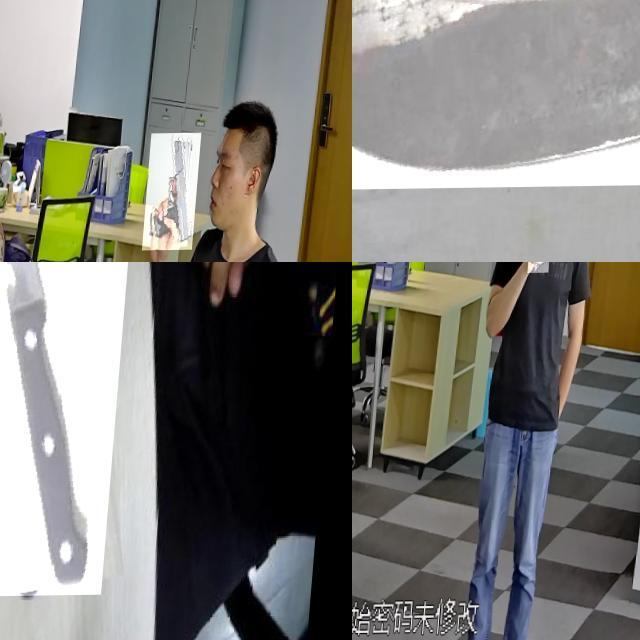-: (352, 0, 640, 190), (0, 262, 147, 598)
gun-knife-thesis - v11 Yolov5 augmented: (147, 134, 205, 252), (531, 262, 557, 297)
